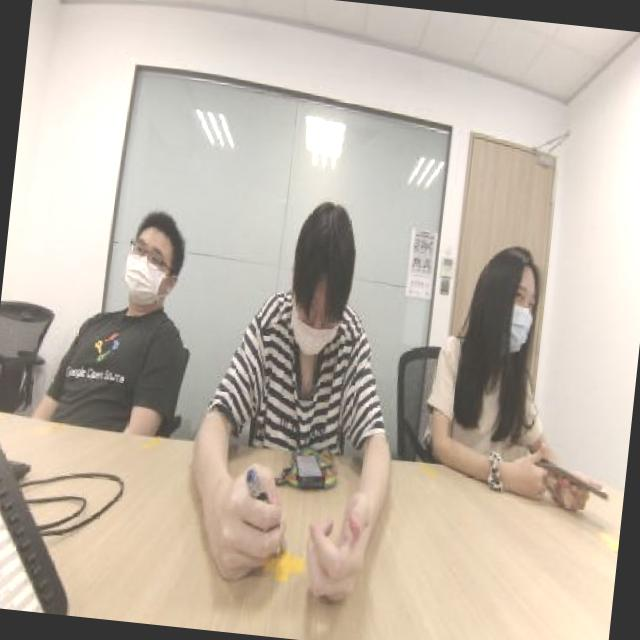Person: (18, 150, 204, 428), (232, 161, 391, 449), (423, 193, 568, 479)
